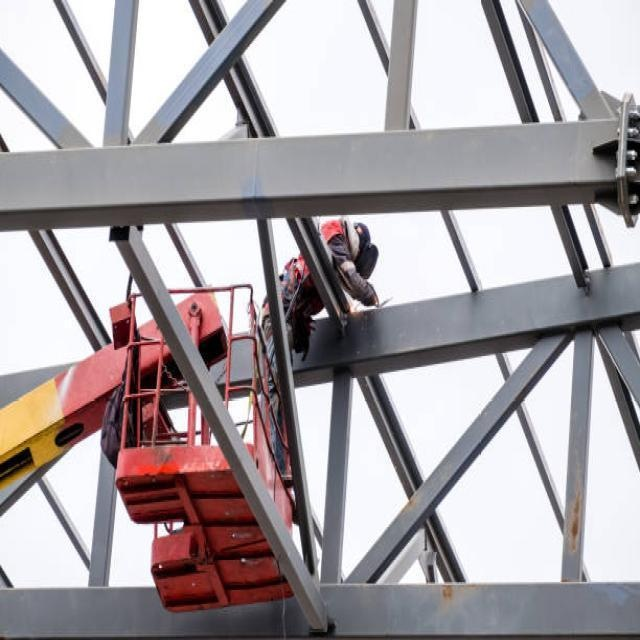Arnes_seguridad: (263, 256, 311, 357)
